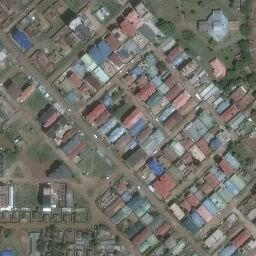tree: (157, 18, 175, 34), (240, 24, 251, 37), (182, 31, 195, 40)
